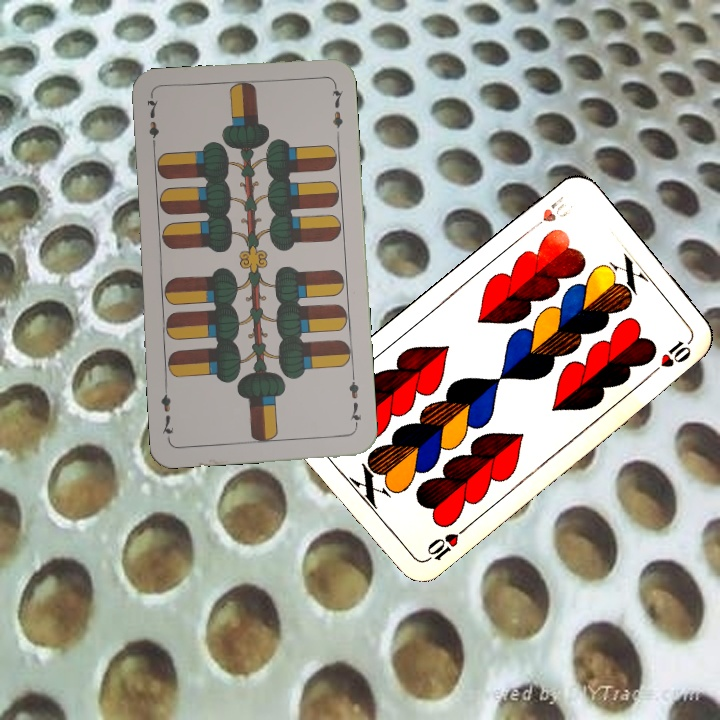E7: (344, 371, 364, 431), (142, 93, 161, 152)
H10: (524, 191, 574, 235), (420, 523, 469, 565)
